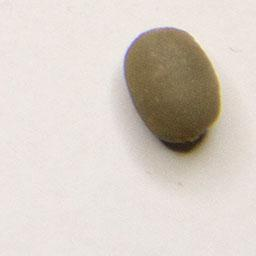peaberry: (120, 22, 223, 149)
